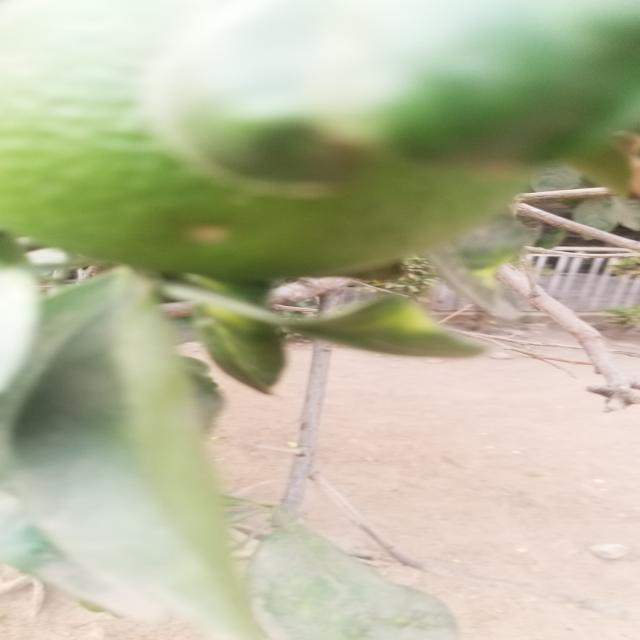Unripe: (0, 0, 539, 284)
